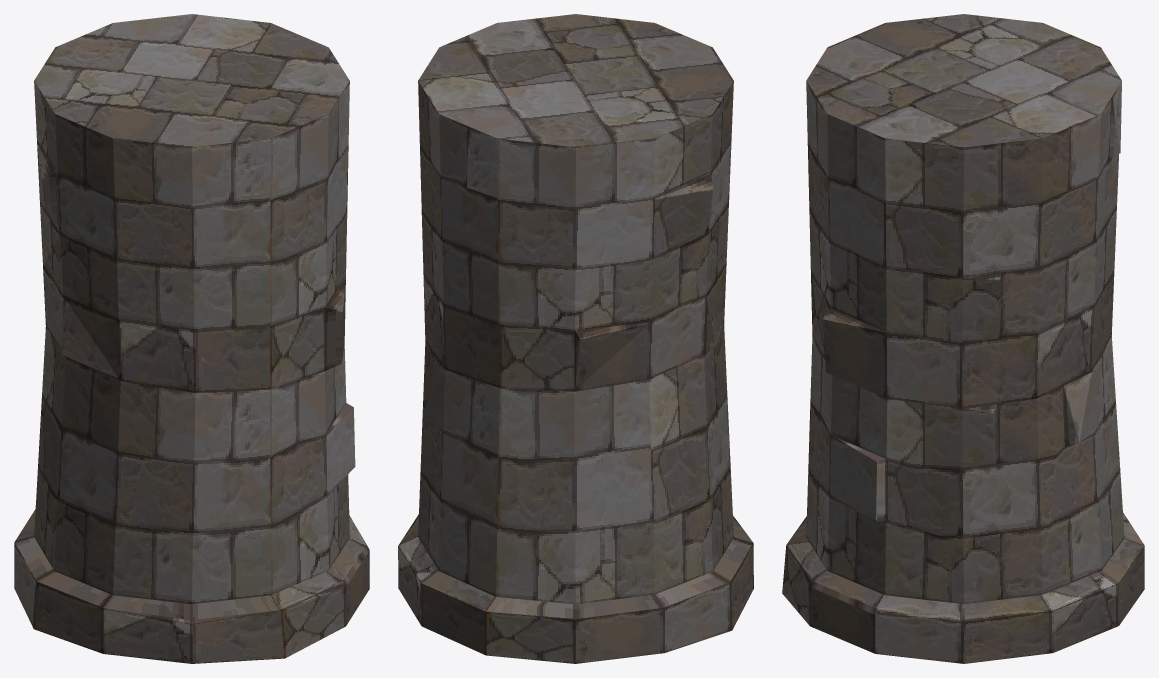
Rendered from item_castle_tower.glb.
3 views of the same model, side by side, from view 1: azimuth 30°, elevation 25°; view 2: azimuth 150°, elevation 25°; view 3: azimuth 270°, elevation 25° (orthographic).
Parts seen in each view (by area): view 1: Tower; view 2: Tower; view 3: Tower.
Part boxes in pixels (box(x1,y1,x2,y2)): Tower: box(14, 14, 369, 663); Tower: box(398, 14, 753, 663); Tower: box(782, 14, 1144, 663).
Size of the model in its own units: 1.37 by 2.16 by 1.38.
1 material, 1 textured.
